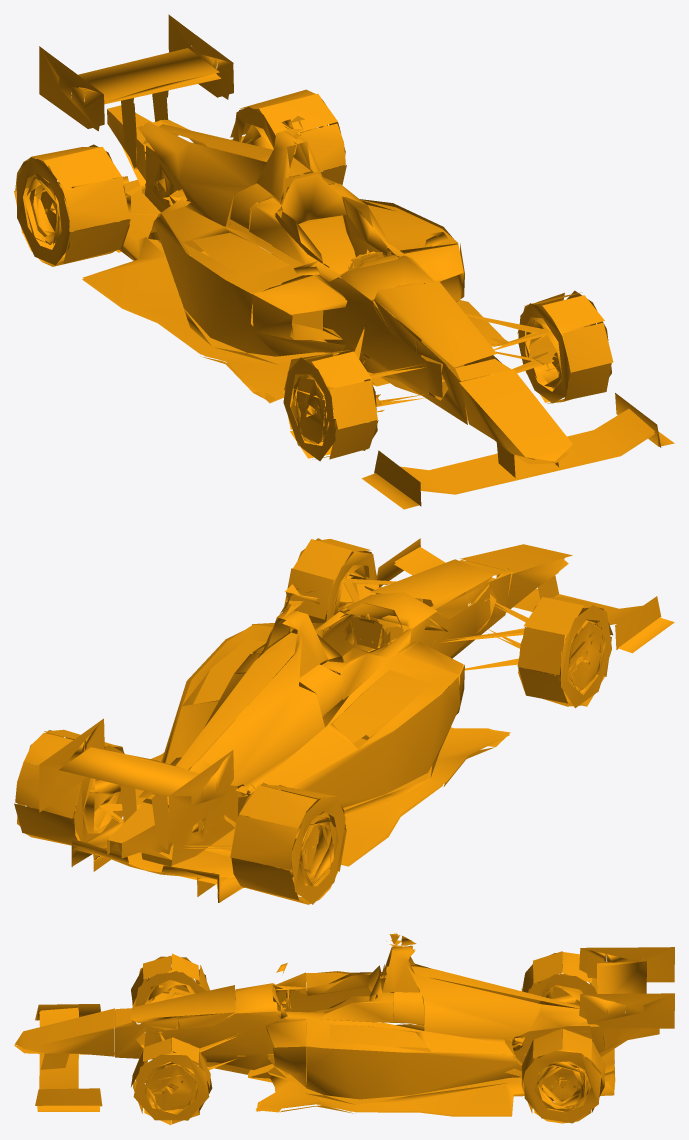
Rendered from cavalier5_decimated.glb.
The picture shows the model from 3 angles, top to bottom: view 1: azimuth 30°, elevation 25°; view 2: azimuth 150°, elevation 25°; view 3: azimuth 270°, elevation 25°; orthographic projection. The views are drawn at different scales.
Visible parts, largest first — view 1: urd_formulalights_oval; view 2: urd_formulalights_oval; view 3: urd_formulalights_oval.
Boxes of the visible parts, x1,y1,x2,y2 form: urd_formulalights_oval: (14, 14, 674, 509); urd_formulalights_oval: (14, 538, 674, 904); urd_formulalights_oval: (14, 933, 674, 1125).
Bounding box in the file's own units: 1.81 × 1.21 × 4.99.
Materials: 24 (24 with a texture image).
